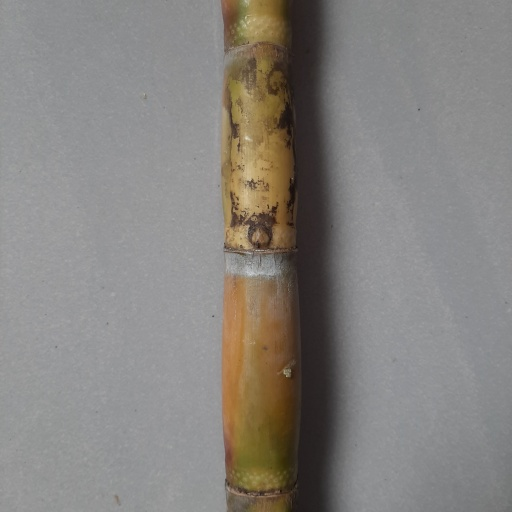Bud: (247, 225, 274, 249)
